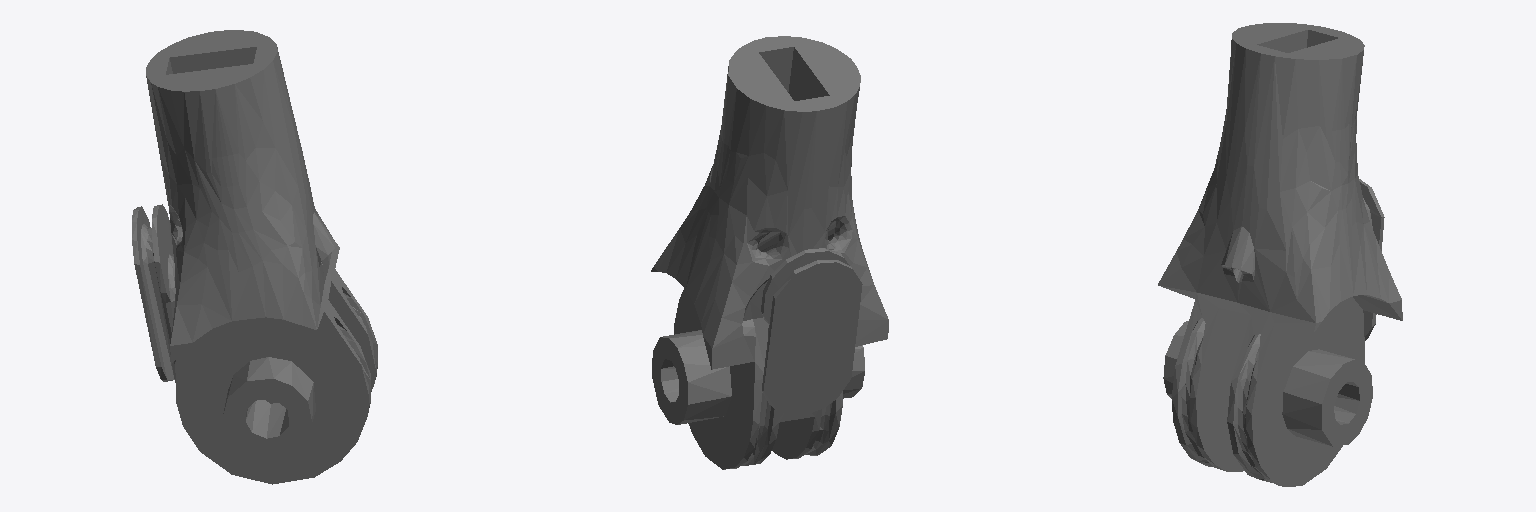
File: hand_finger2-c.obj
The picture shows the model from 3 angles: view 1: azimuth 30°, elevation 25°; view 2: azimuth 150°, elevation 25°; view 3: azimuth 270°, elevation 25°; orthographic projection.
Parts seen in each view (by area): view 1: finger2-c; view 2: finger2-c; view 3: finger2-c.
Boxes of the visible parts, box(x1,y1,x2,y2) form: finger2-c: box(132, 30, 377, 484); finger2-c: box(651, 36, 888, 469); finger2-c: box(1158, 23, 1402, 486).
Size of the model in its own units: 0.0502 by 0.0925 by 0.0493.